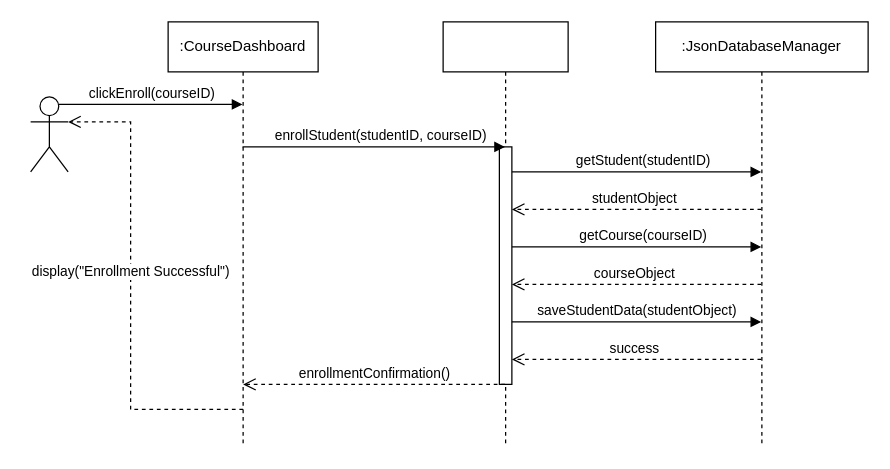
This 890x469 diagram has some shape labels left out. The shapes that lost their labels are listed below. From the top down, each one's box as (x1, y1, x2, y2) in pixels, then its label:
(29, 96, 68, 172): :Student
(442, 21, 568, 447): :CourseService
